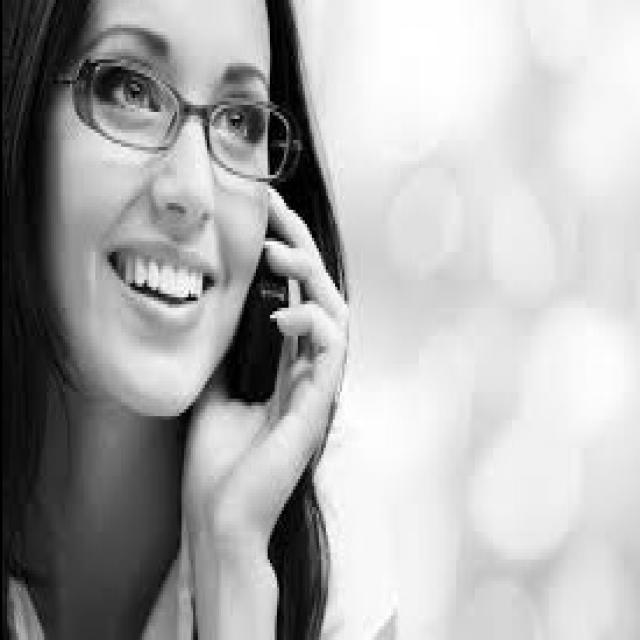phone: (168, 63, 384, 532)
